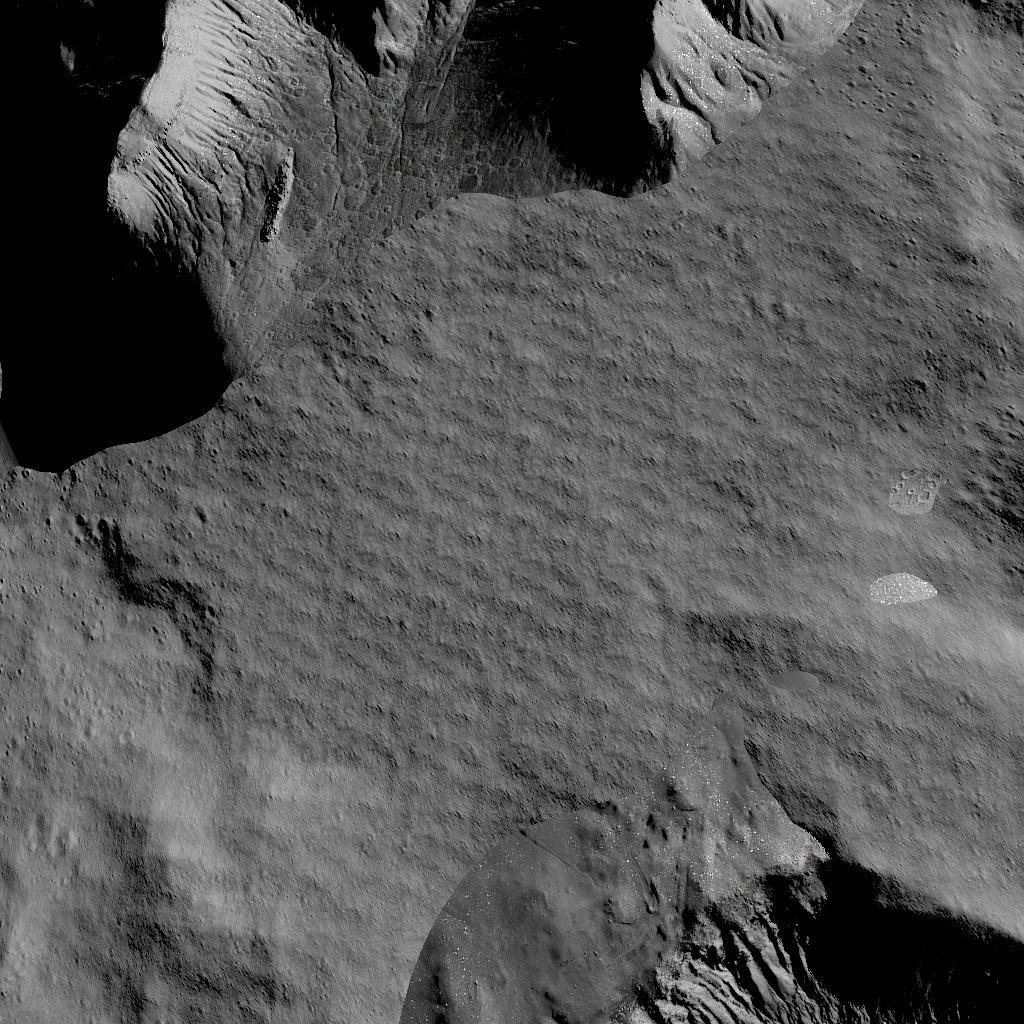Boulders: (52, 0, 872, 394)
Crater: (461, 798, 1024, 1024), (957, 394, 1024, 606)
Plan surface: (4, 470, 436, 1024), (465, 420, 929, 762), (901, 0, 1024, 356)
